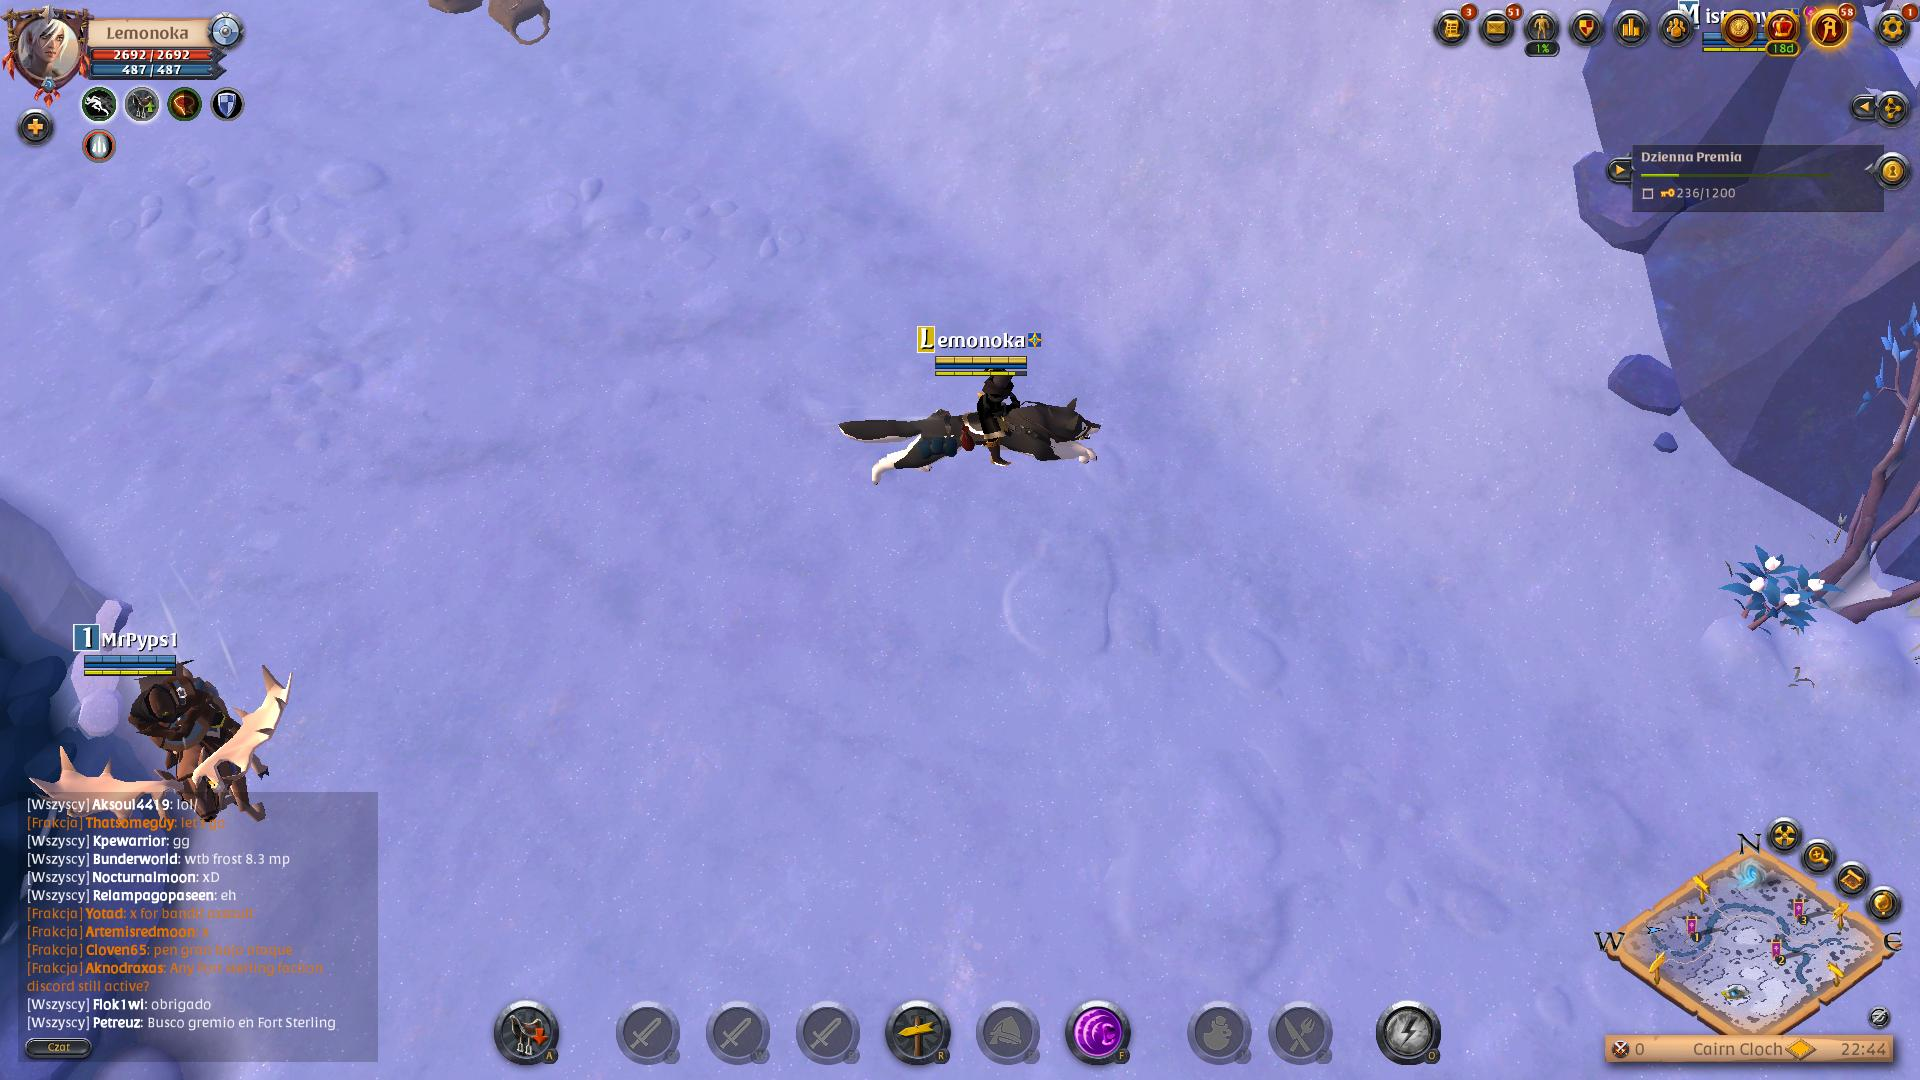fiber tier 4: (1722, 537, 1837, 650)
